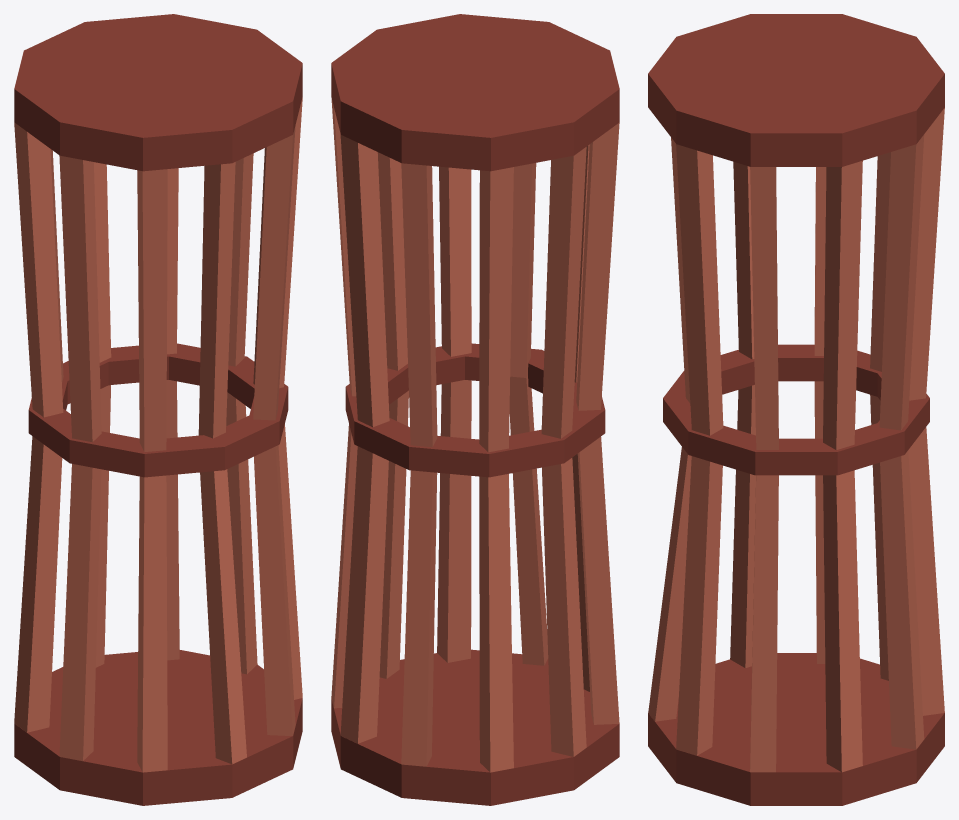
The model's file is Cage_4_Red.fbx.
The picture shows the model from 3 angles, left to right: view 1: azimuth 30°, elevation 25°; view 2: azimuth 150°, elevation 25°; view 3: azimuth 270°, elevation 25°; orthographic projection.
Parts seen in each view (by area): view 1: Cage_4_Red_Part_2, Cage_4_Red_Part_1; view 2: Cage_4_Red_Part_2, Cage_4_Red_Part_1; view 3: Cage_4_Red_Part_2, Cage_4_Red_Part_1.
Boxes of the visible parts, x1,y1,x2,y2 form: Cage_4_Red_Part_2: (14,97,302,772); Cage_4_Red_Part_1: (14,14,302,805); Cage_4_Red_Part_2: (331,99,619,772); Cage_4_Red_Part_1: (331,14,619,805); Cage_4_Red_Part_2: (648,107,944,772); Cage_4_Red_Part_1: (648,14,944,805).
Size of the model in its own units: 76.18 by 200 by 80.
